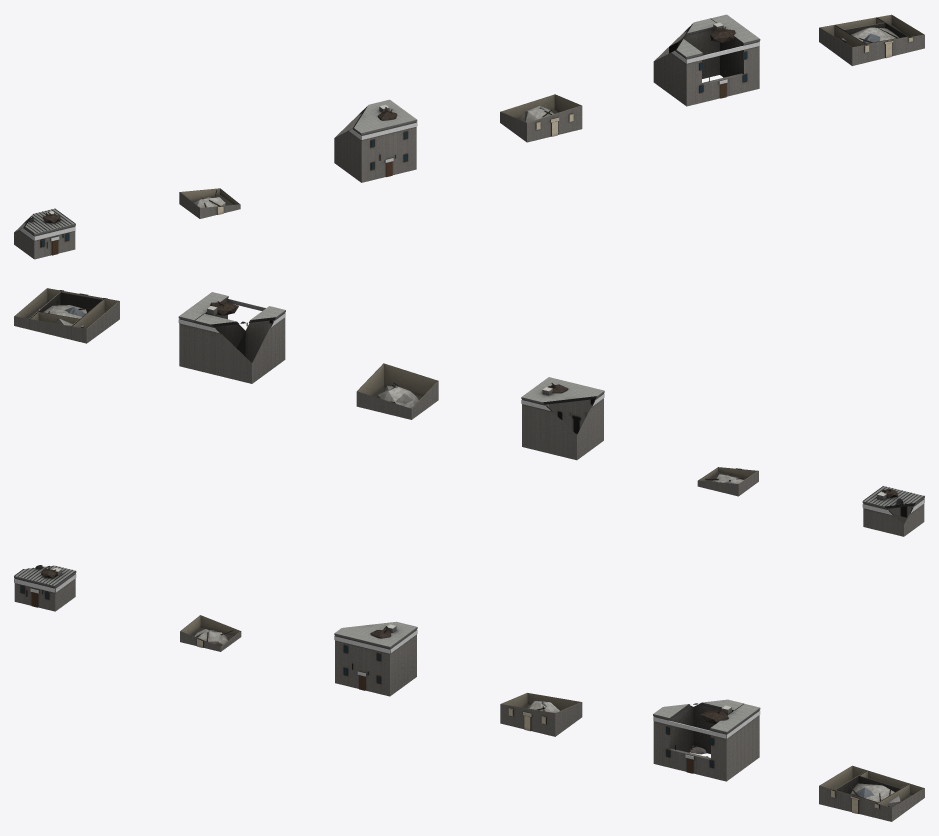
The model's file is modern-americas-houses-damage.glb.
3 renders of one model, top to bottom at view 1: azimuth 30°, elevation 25°; view 2: azimuth 150°, elevation 25°; view 3: azimuth 330°, elevation 25°, orthographic.
Parts seen in each view (by area): view 1: LOD0.004, LOD0.002, LOD0.005, LOD0.003, LOD0, LOD0.001; view 2: LOD0.004, LOD0.002, LOD0.005, LOD0.003, LOD0, LOD0.001; view 3: LOD0.004, LOD0.002, LOD0.005, LOD0.003, LOD0, LOD0.001.
Part boxes in pixels (x1,y1,x2,y2): LOD0.004: (653,14,760,106); LOD0.002: (334,99,417,182); LOD0.005: (819,14,924,65); LOD0.003: (500,94,582,142); LOD0: (14,208,75,259); LOD0.001: (179,188,240,218); LOD0.004: (178,292,285,383); LOD0.002: (521,377,604,460); LOD0.005: (14,288,119,343); LOD0.003: (356,363,438,419); LOD0: (862,486,924,536); LOD0.001: (697,467,758,496); LOD0.004: (653,699,760,781); LOD0.002: (334,621,417,696); LOD0.005: (819,765,924,821); LOD0.003: (500,693,582,736); LOD0: (14,565,76,611); LOD0.001: (180,615,241,651).
Size of what is drawn, in the model's own units: 16.04 by 0.988 by 1.07.
2 materials, 2 textured.
